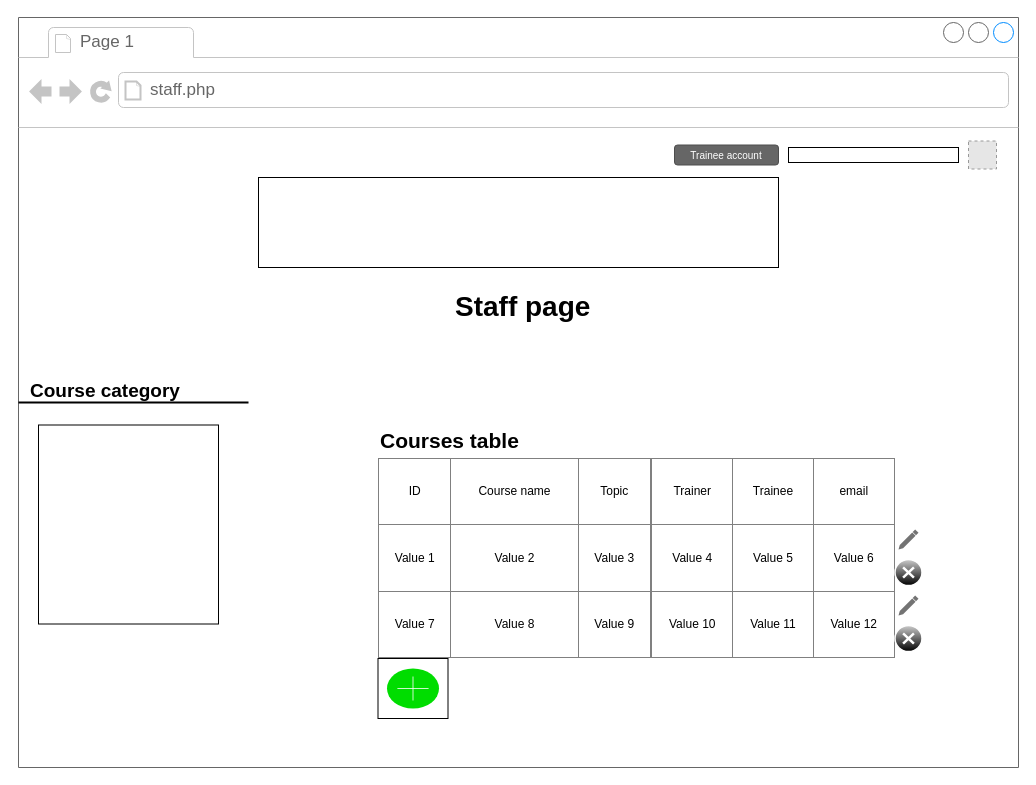
The diagram is 1036 pixels wide and 785 high, and some of its shapes have lost their labels. Grey dashed boxes stand in for pictures. Each missing label, with the centre of its shape:
Courses: (x=128, y=524)
Logo: (x=518, y=222)
